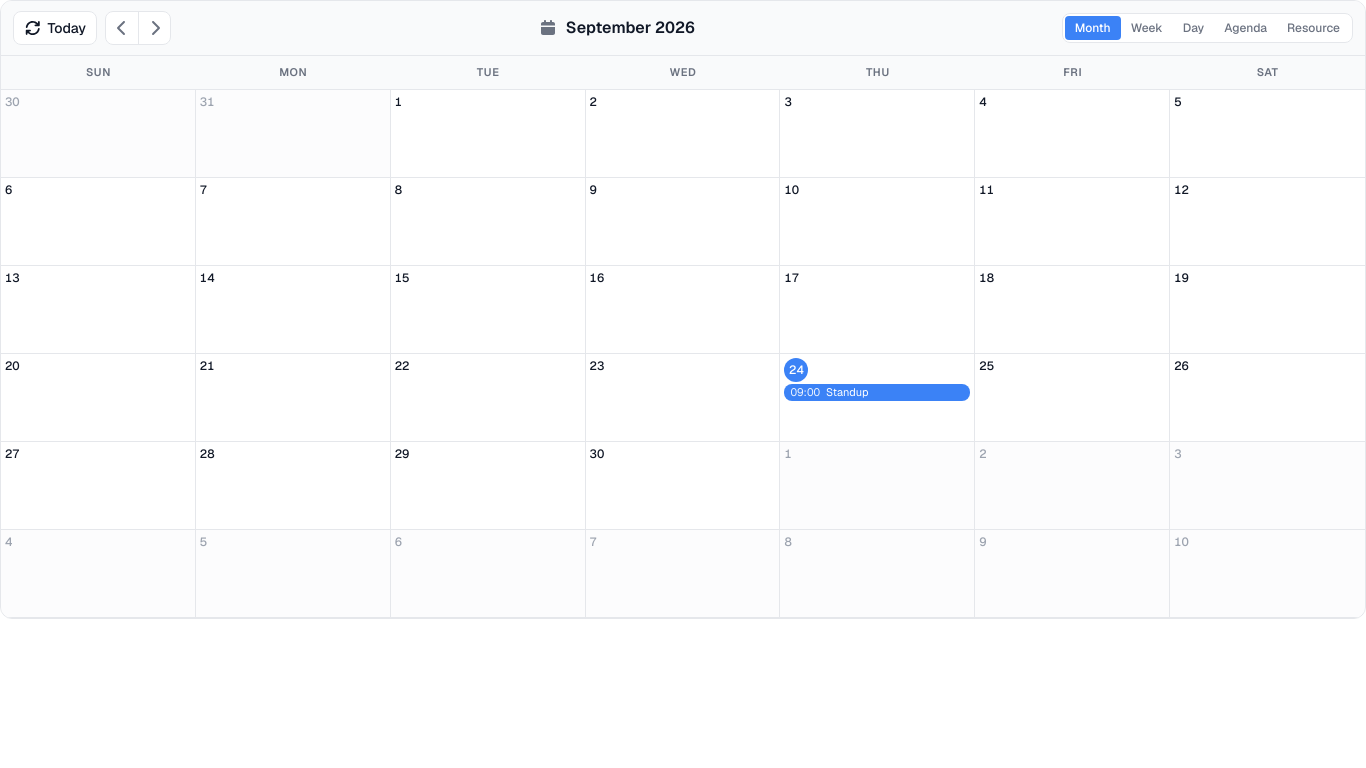
Test: <Calendar /> event popover › closes on an outside pointer press and via its close button
Click the button "09:00 Standup" at (877, 392), box [784,384,970,401]
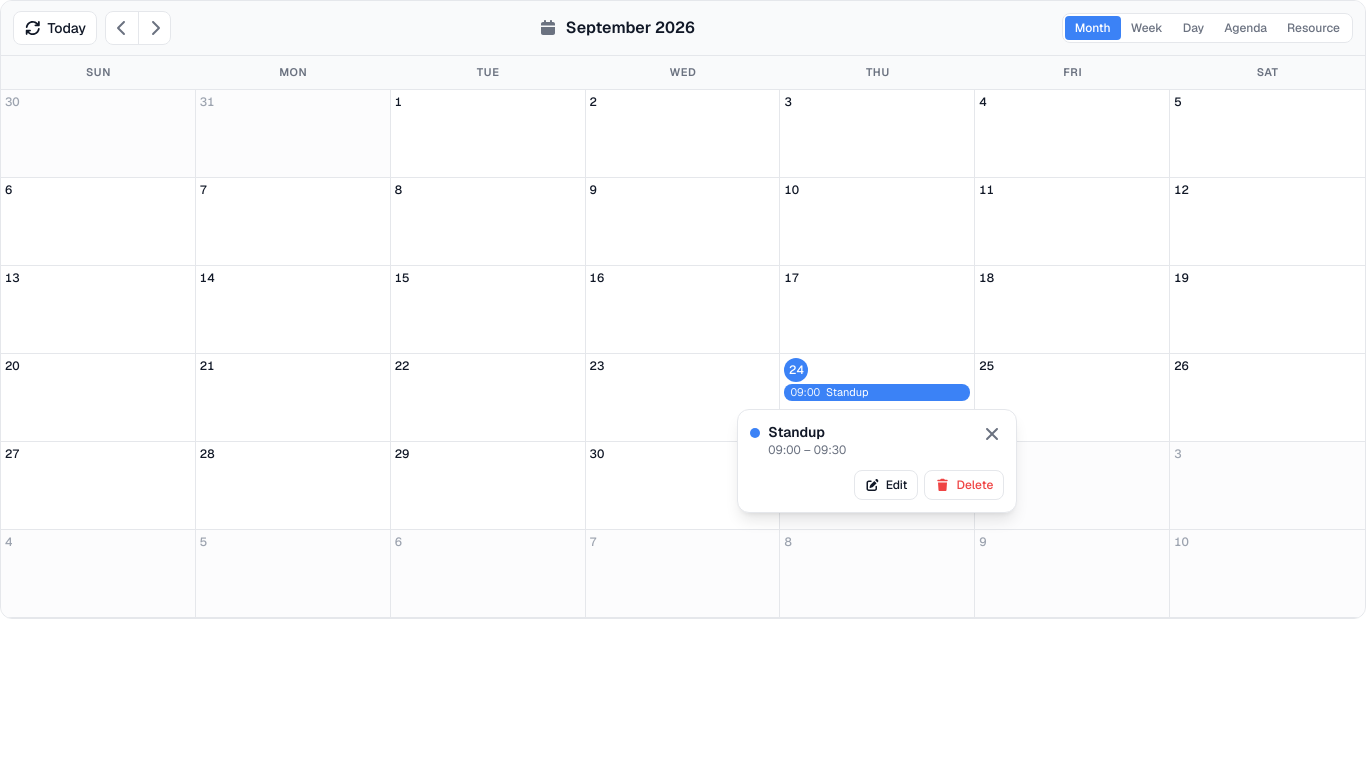
Press the mouse on the element that starts with "Today" at (683, 384), box [0,0,1365,767]
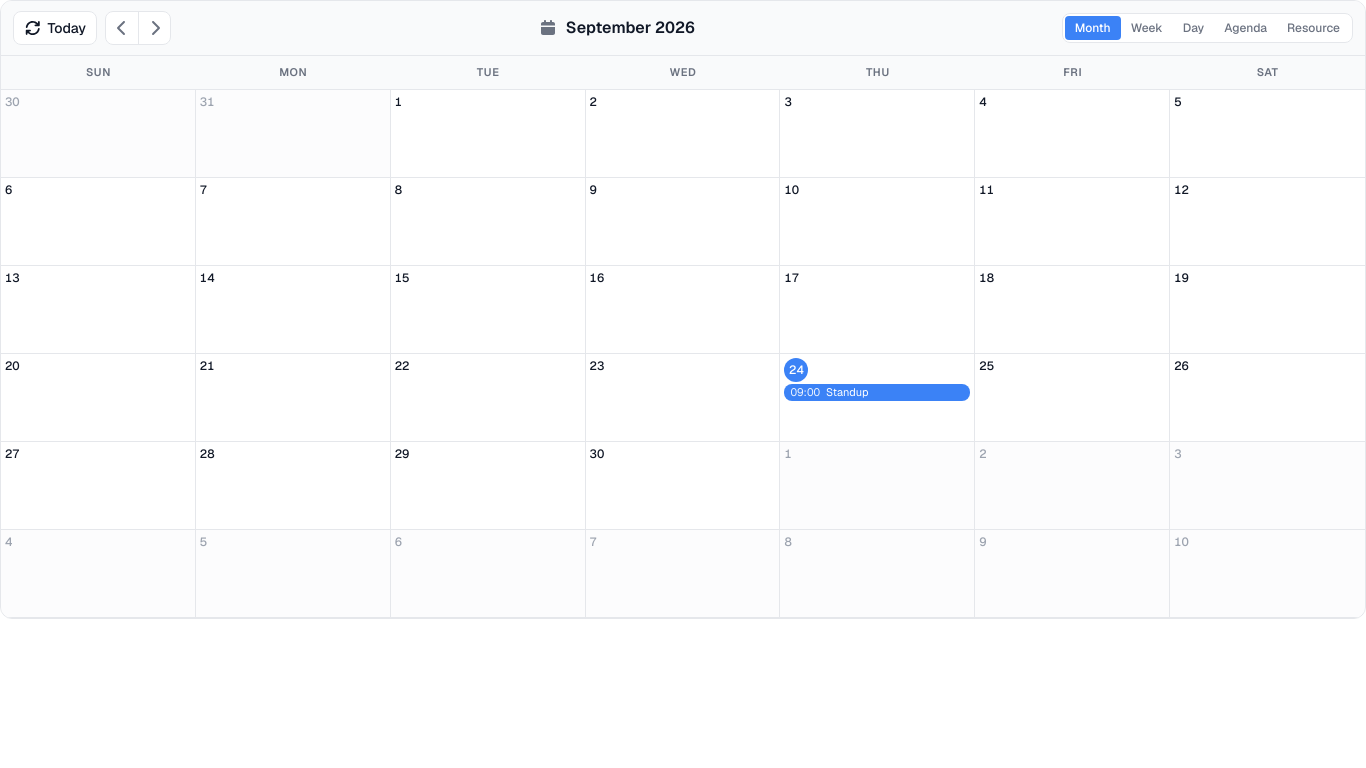
Result: the dialog is gone
Click the button "09:00 Standup" at (877, 392), box [784,384,970,401]
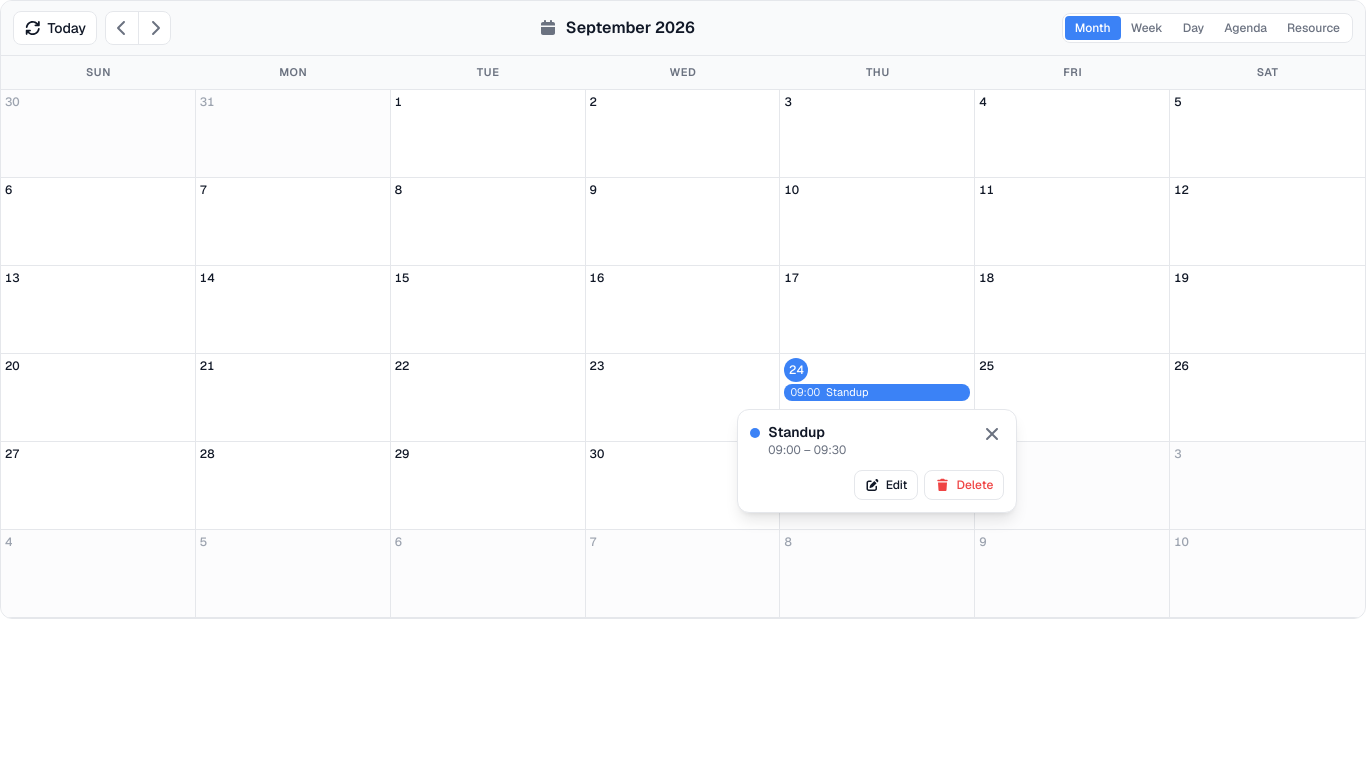
Click the button named "Close" at (992, 434), box [980,422,1004,446]
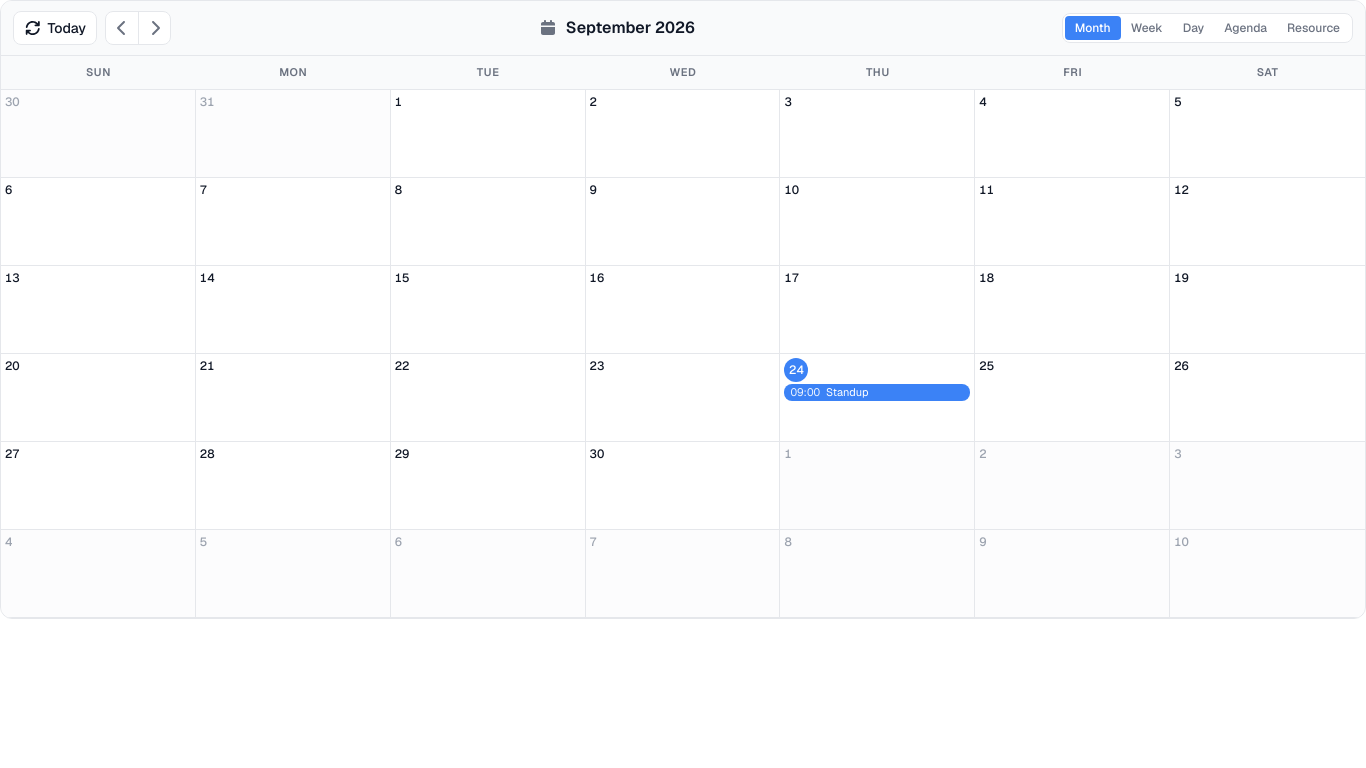
Result: the dialog is gone
